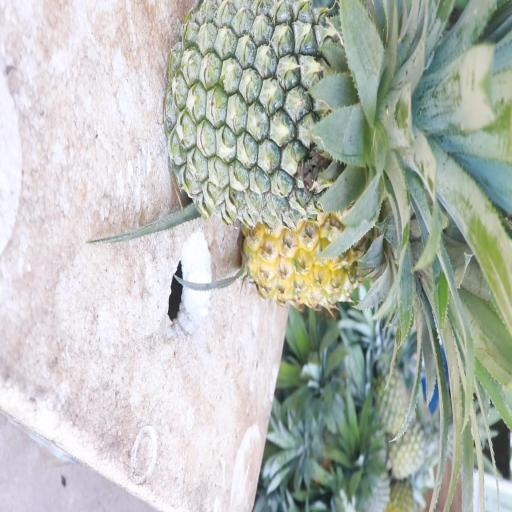Pineapple - v8 v1: (248, 222, 484, 370)
